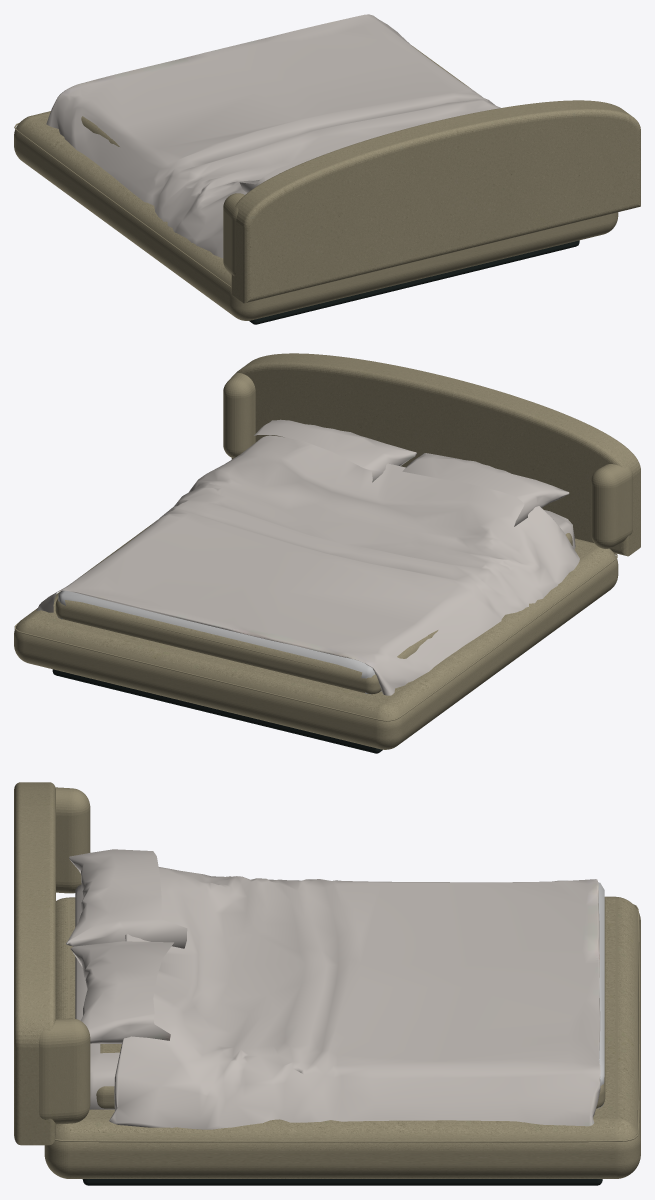
File: refined-low-channel-bed.glb
3 views of the same model, one above another, from view 1: azimuth 30°, elevation 25°; view 2: azimuth 150°, elevation 25°; view 3: azimuth 270°, elevation 25° (orthographic). The views are drawn at different scales.
Parts seen in each view (by area): view 1: linen_0, complete_source_bedding, dark_1; view 2: complete_source_bedding, linen_0, dark_1; view 3: complete_source_bedding, linen_0, dark_1.
Part boxes in pixels (box(x1,y1,x2,y2)): linen_0: box(14, 45, 640, 320); complete_source_bedding: box(46, 14, 500, 258); dark_1: box(249, 240, 579, 324); complete_source_bedding: box(36, 419, 579, 695); linen_0: box(14, 353, 640, 749); dark_1: box(52, 669, 382, 753); complete_source_bedding: box(66, 849, 604, 1129); linen_0: box(14, 782, 640, 1178); dark_1: box(82, 1179, 602, 1185).
Size of the model in its own units: 2.31 by 0.962 by 2.46.
Materials: 4 (2 with a texture image).
